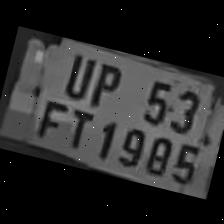1: (88, 111, 122, 159)
3: (165, 79, 204, 134)
5: (135, 70, 176, 125), (165, 133, 205, 185)
8: (139, 128, 176, 176)
9: (112, 117, 150, 168)
F: (31, 90, 71, 142)
P: (84, 54, 127, 109)
T: (57, 100, 98, 152)
U: (56, 44, 99, 101)
